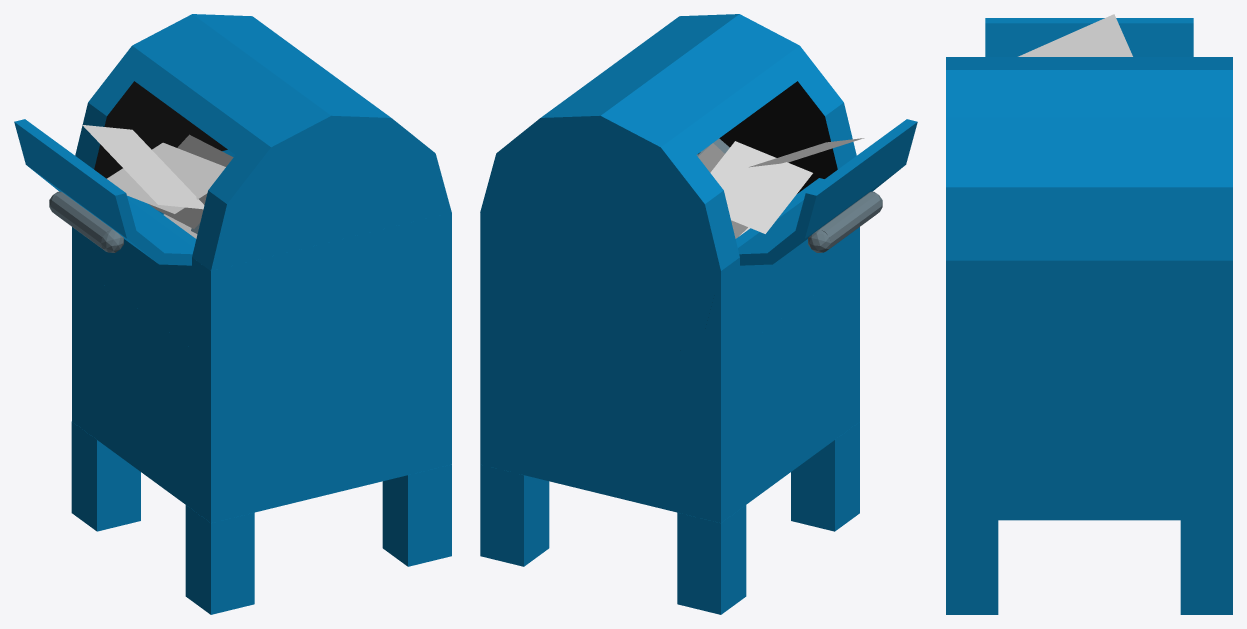
Rendered from PostBox.fbx.
3 views of the same model, side by side, from view 1: azimuth 30°, elevation 25°; view 2: azimuth 150°, elevation 25°; view 3: azimuth 270°, elevation 25° (orthographic). The views are drawn at different scales.
Visible parts, largest first — view 1: node_MeshObject-1007454912-PolyPaper23; view 2: node_MeshObject-1007454912-PolyPaper23; view 3: node_MeshObject-1007454912-PolyPaper23.
Boxes of the visible parts, x1,y1,x2,y2 form: node_MeshObject-1007454912-PolyPaper23: (14, 14, 451, 614); node_MeshObject-1007454912-PolyPaper23: (480, 14, 917, 614); node_MeshObject-1007454912-PolyPaper23: (946, 14, 1232, 614).
Size of the model in its own units: 1005 by 1421 by 762.
